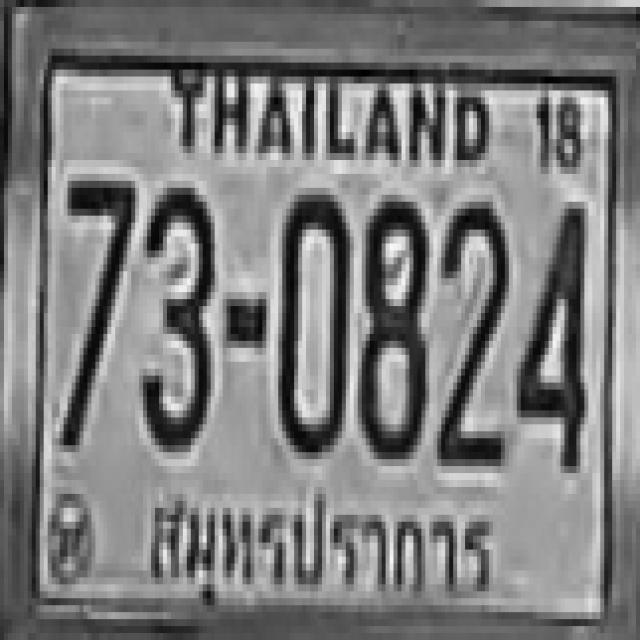0: (274, 188, 346, 452)
2: (435, 195, 507, 459)
3: (139, 181, 211, 445)
4: (513, 195, 584, 466)
7: (62, 174, 133, 445)
8: (358, 188, 425, 452)
SamutPrakan: (141, 472, 497, 625)
